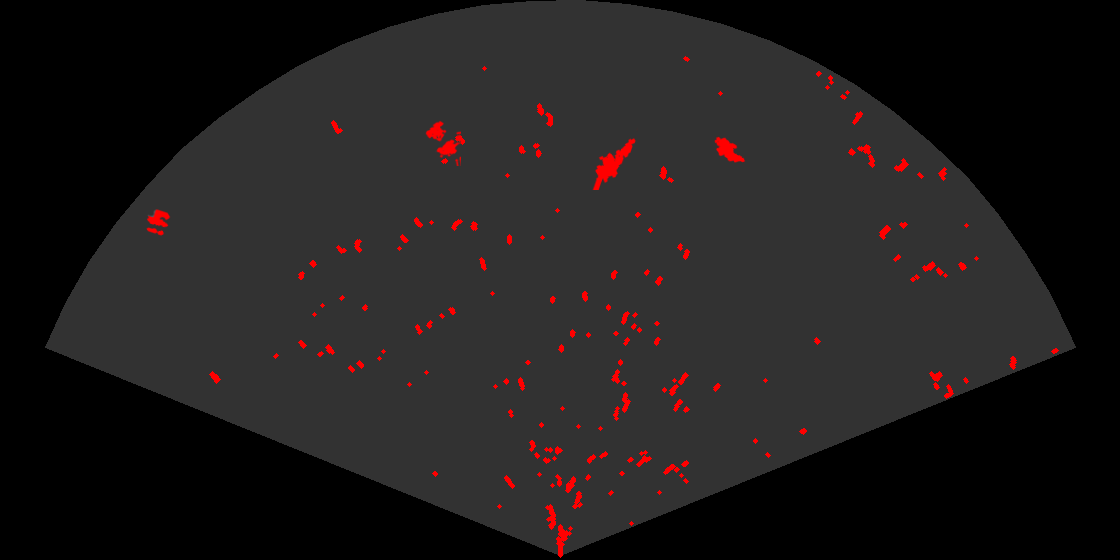AUV: (713, 135, 747, 164)
ball: (145, 208, 172, 237)
cage: (424, 119, 461, 166)
frogman: (591, 127, 638, 190)
